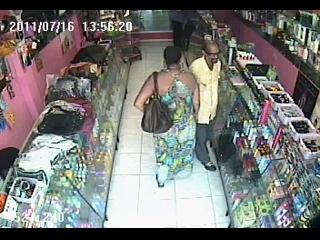Normal: (133, 46, 200, 188), (188, 39, 222, 172), (141, 71, 173, 134)
